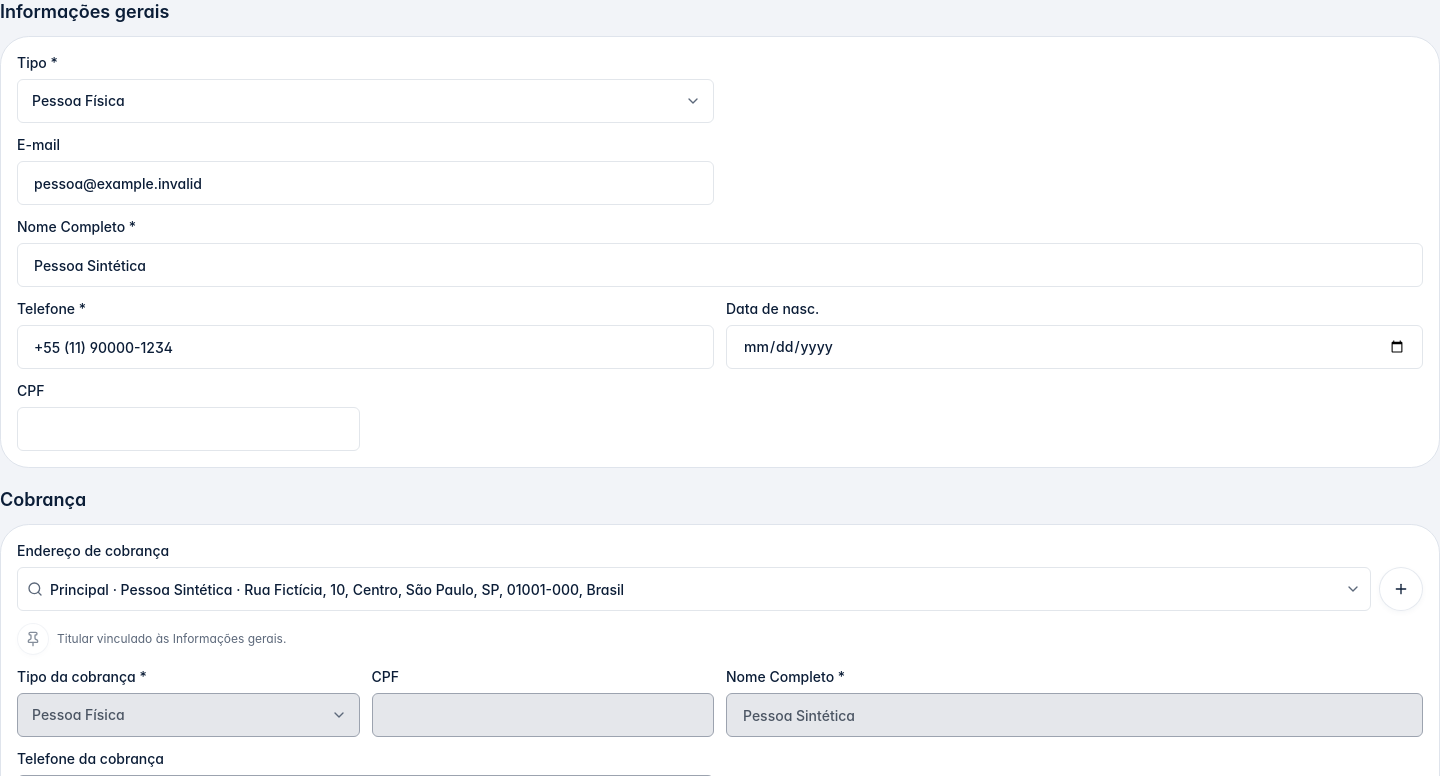
Test case: inclusão temporária e endereço postal único › + cobrança abre formulário sem inserir item e cancelar conserva o cadastro
Click the button named "Adicionar endereço de cobrança" at (1401, 589), box [1379,567,1423,611]
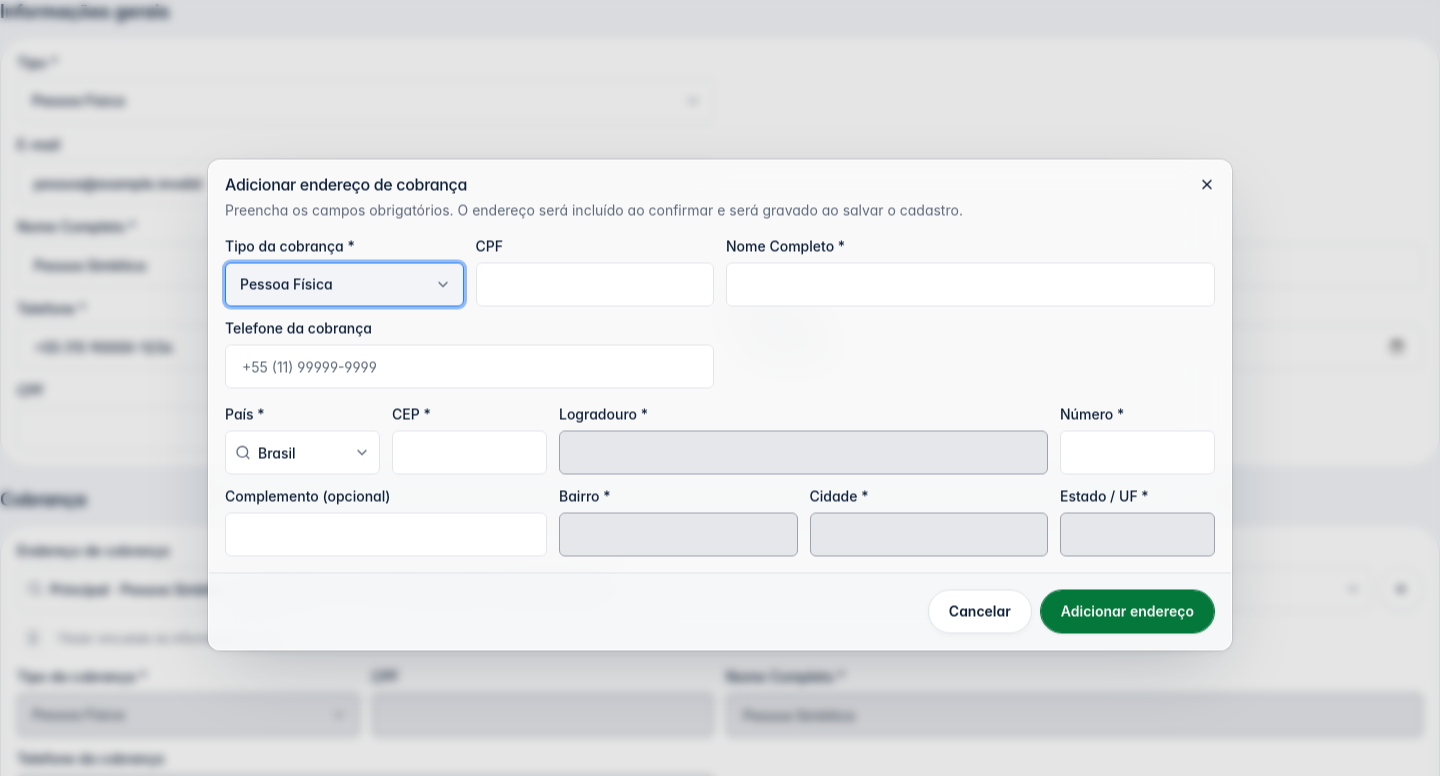
Type "Titular temporário" into the field labelled "Nome Completo *" at (970, 284), box [726,262,1215,306]
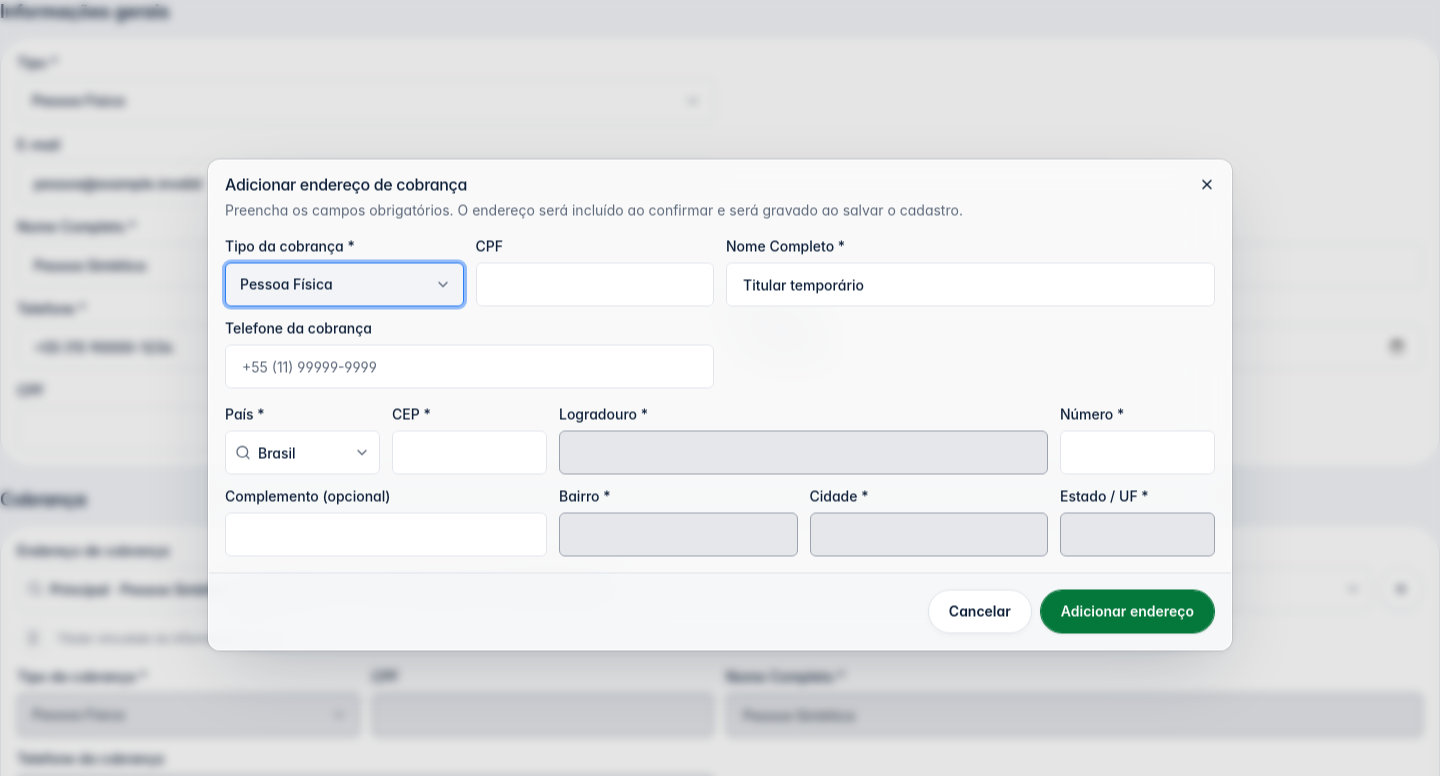
Click the button "Cancelar" at (980, 612), box [928,590,1032,634]
(page scrolled)
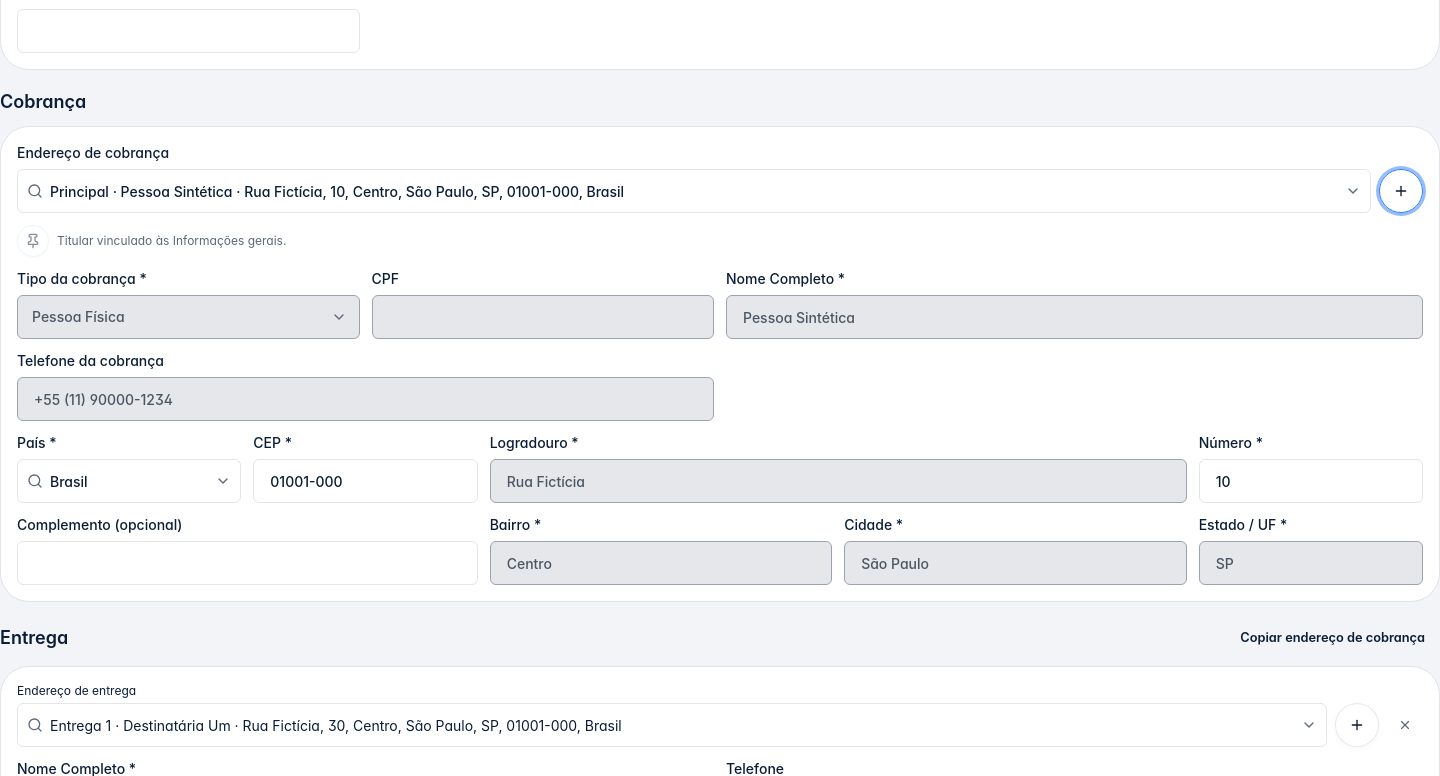
Expected: the element named "Principal" is shown, [17,225,1423,585]
Now the dialog is gone
